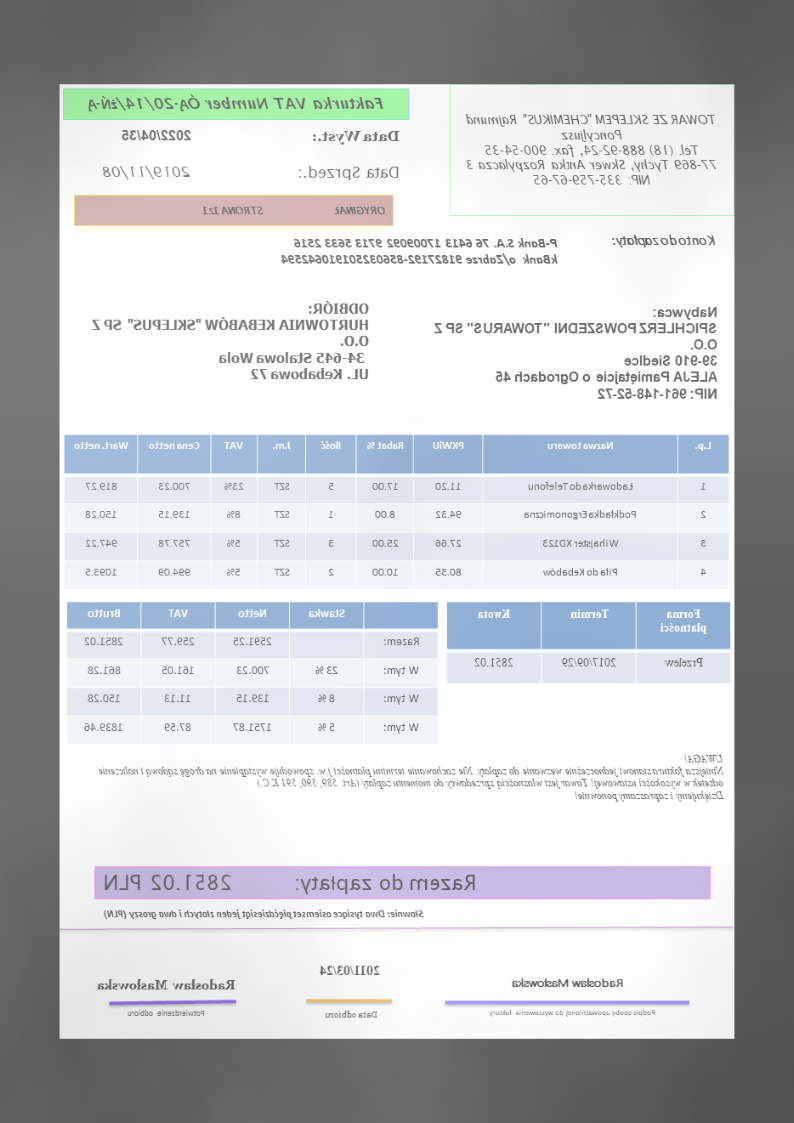Table: (64, 431, 731, 589), (66, 598, 441, 745), (447, 601, 731, 683)
TextBox: (94, 749, 724, 804), (430, 302, 721, 403), (88, 298, 373, 383), (462, 107, 722, 190), (102, 870, 479, 897), (276, 234, 562, 269), (84, 93, 388, 116), (100, 904, 427, 923), (198, 202, 390, 220), (96, 976, 239, 995), (485, 1004, 658, 1019), (610, 229, 720, 251), (295, 162, 403, 184), (99, 162, 194, 182), (309, 127, 403, 147), (508, 974, 627, 989), (120, 125, 195, 144), (316, 961, 385, 979), (124, 1006, 207, 1020), (322, 1006, 381, 1022)
